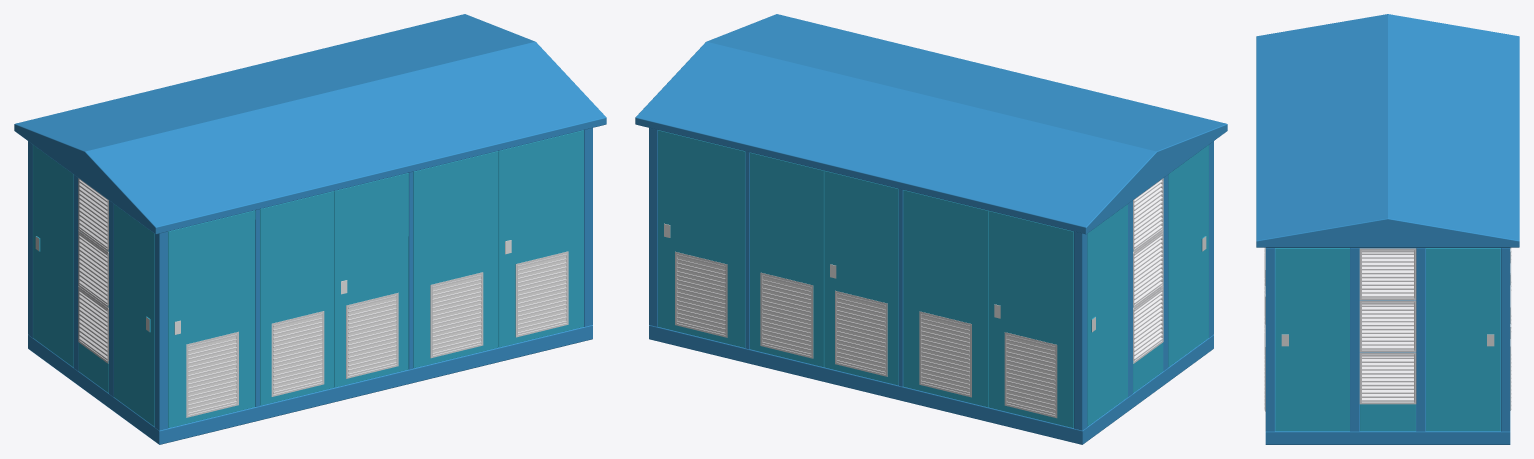
3 renders of one model, left to right at view 1: azimuth 30°, elevation 25°; view 2: azimuth 150°, elevation 25°; view 3: azimuth 270°, elevation 25°, orthographic. The views are drawn at different scales.
Parts seen in each view (by area): view 1: |16T0充电桩简版1|Root|16T0简版1-1|blue, |16T0充电桩简版1|Root|16T0简版1-1|blue-2, |16T0充电桩简版1|Root|16T0简版1-1|color-3, |16T0充电桩简版1|Root|16T0简版1-1|color(Legacy), |16T0充电桩简版1|Root|防雨百叶窗1-4|satin_finish_aluminum-2, |16T0充电桩简版1|Root|防雨百叶窗1-2|satin_finish_aluminum-2, |16T0充电桩简版1|Root|防雨百叶窗1-5|satin_finish_aluminum-2, |16T0充电桩简版1|Root|防雨百叶窗1-1|satin_finish_aluminum-2, |16T0充电桩简版1|Root|防雨百叶窗1-3|satin_finish_aluminum-2, |16T0充电桩简版1|Root|防雨百叶窗11-2|satin_finish_aluminum, |16T0充电桩简版1|Root|防雨百叶窗11-3|satin_finish_aluminum, |16T0充电桩简版1|Root|防雨百叶窗11-1|satin_finish_aluminum; view 2: |16T0充电桩简版1|Root|16T0简版1-1|blue, |16T0充电桩简版1|Root|16T0简版1-1|color-4, |16T0充电桩简版1|Root|16T0简版1-1|color-3, |16T0充电桩简版1|Root|16T0简版1-1|blue-2, |16T0充电桩简版1|Root|16T0简版1-1|color(Legacy), |16T0充电桩简版1|Root|防雨百叶窗1-12|satin_finish_aluminum-2, |16T0充电桩简版1|Root|防雨百叶窗1-9|satin_finish_aluminum-2, |16T0充电桩简版1|Root|防雨百叶窗1-7|satin_finish_aluminum-2, |16T0充电桩简版1|Root|防雨百叶窗1-10|satin_finish_aluminum-2, |16T0充电桩简版1|Root|防雨百叶窗1-11|satin_finish_aluminum-2, |16T0充电桩简版1|Root|防雨百叶窗11-2|satin_finish_aluminum, |16T0充电桩简版1|Root|防雨百叶窗11-3|satin_finish_aluminum (+1 smaller); view 3: |16T0充电桩简版1|Root|16T0简版1-1|blue, |16T0充电桩简版1|Root|16T0简版1-1|color-2, |16T0充电桩简版1|Root|16T0简版1-1|color(Legacy), |16T0充电桩简版1|Root|防雨百叶窗11-6|satin_finish_aluminum, |16T0充电桩简版1|Root|防雨百叶窗11-4|satin_finish_aluminum, |16T0充电桩简版1|Root|防雨百叶窗11-5|satin_finish_aluminum.
Part boxes in pixels (left/top/right/bottom): |16T0充电桩简版1|Root|16T0简版1-1|blue: left=14, top=14, right=606, bottom=444; |16T0充电桩简版1|Root|16T0简版1-1|blue-2: left=33, top=130, right=583, bottom=427; |16T0充电桩简版1|Root|16T0简版1-1|color-3: left=174, top=240, right=566, bottom=414; |16T0充电桩简版1|Root|16T0简版1-1|color(Legacy): left=114, top=204, right=154, bottom=426; |16T0充电桩简版1|Root|防雨百叶窗1-4|satin_finish_aluminum-2: left=430, top=272, right=483, bottom=358; |16T0充电桩简版1|Root|防雨百叶窗1-2|satin_finish_aluminum-2: left=271, top=311, right=324, bottom=396; |16T0充电桩简版1|Root|防雨百叶窗1-5|satin_finish_aluminum-2: left=515, top=251, right=568, bottom=337; |16T0充电桩简版1|Root|防雨百叶窗1-1|satin_finish_aluminum-2: left=186, top=331, right=238, bottom=417; |16T0充电桩简版1|Root|防雨百叶窗1-3|satin_finish_aluminum-2: left=346, top=292, right=398, bottom=378; |16T0充电桩简版1|Root|防雨百叶窗11-2|satin_finish_aluminum: left=78, top=230, right=108, bottom=307; |16T0充电桩简版1|Root|防雨百叶窗11-3|satin_finish_aluminum: left=78, top=286, right=108, bottom=363; |16T0充电桩简版1|Root|防雨百叶窗11-1|satin_finish_aluminum: left=78, top=178, right=108, bottom=251; |16T0充电桩简版1|Root|16T0简版1-1|blue: left=635, top=14, right=1227, bottom=444; |16T0充电桩简版1|Root|16T0简版1-1|color-4: left=658, top=130, right=1073, bottom=427; |16T0充电桩简版1|Root|16T0简版1-1|color-3: left=664, top=223, right=1055, bottom=415; |16T0充电桩简版1|Root|16T0简版1-1|blue-2: left=1087, top=204, right=1163, bottom=426; |16T0充电桩简版1|Root|16T0简版1-1|color(Legacy): left=1168, top=145, right=1208, bottom=367; |16T0充电桩简版1|Root|防雨百叶窗1-12|satin_finish_aluminum-2: left=1004, top=332, right=1057, bottom=418; |16T0充电桩简版1|Root|防雨百叶窗1-9|satin_finish_aluminum-2: left=760, top=272, right=813, bottom=358; |16T0充电桩简版1|Root|防雨百叶窗1-7|satin_finish_aluminum-2: left=675, top=251, right=727, bottom=337; |16T0充电桩简版1|Root|防雨百叶窗1-10|satin_finish_aluminum-2: left=835, top=290, right=887, bottom=376; |16T0充电桩简版1|Root|防雨百叶窗1-11|satin_finish_aluminum-2: left=919, top=311, right=971, bottom=397; |16T0充电桩简版1|Root|防雨百叶窗11-2|satin_finish_aluminum: left=1133, top=230, right=1163, bottom=307; |16T0充电桩简版1|Root|防雨百叶窗11-3|satin_finish_aluminum: left=1133, top=286, right=1163, bottom=363; |16T0充电桩简版1|Root|16T0简版1-1|blue: left=1256, top=14, right=1519, bottom=444; |16T0充电桩简版1|Root|16T0简版1-1|color-2: left=1360, top=248, right=1500, bottom=431; |16T0充电桩简版1|Root|16T0简版1-1|color(Legacy): left=1275, top=248, right=1500, bottom=431; |16T0充电桩简版1|Root|防雨百叶窗11-6|satin_finish_aluminum: left=1359, top=352, right=1416, bottom=404; |16T0充电桩简版1|Root|防雨百叶窗11-4|satin_finish_aluminum: left=1359, top=248, right=1416, bottom=299; |16T0充电桩简版1|Root|防雨百叶窗11-5|satin_finish_aluminum: left=1359, top=300, right=1416, bottom=351.
Size of the model in its own units: 5.15 by 2.7 by 2.8.
